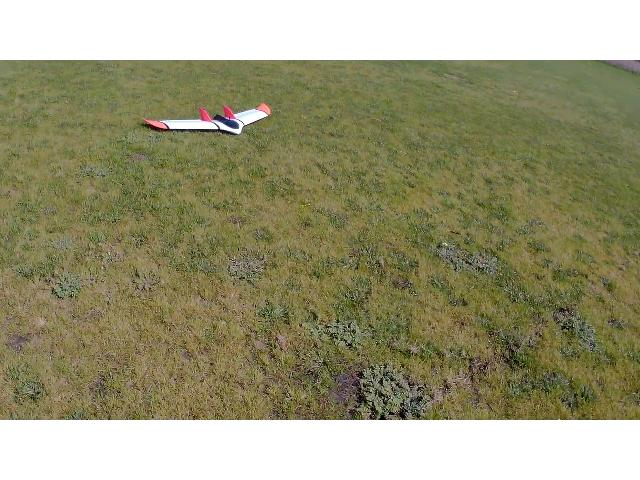Anti-Drone: (120, 86, 310, 152)
